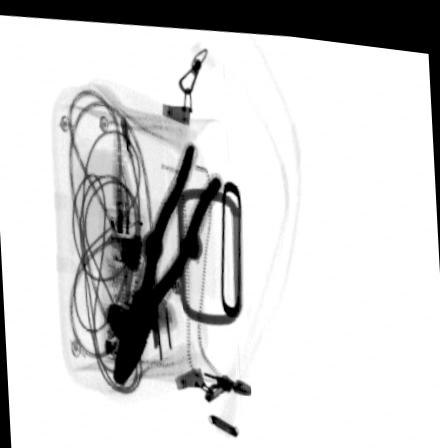Pliers: (112, 135, 224, 385)
